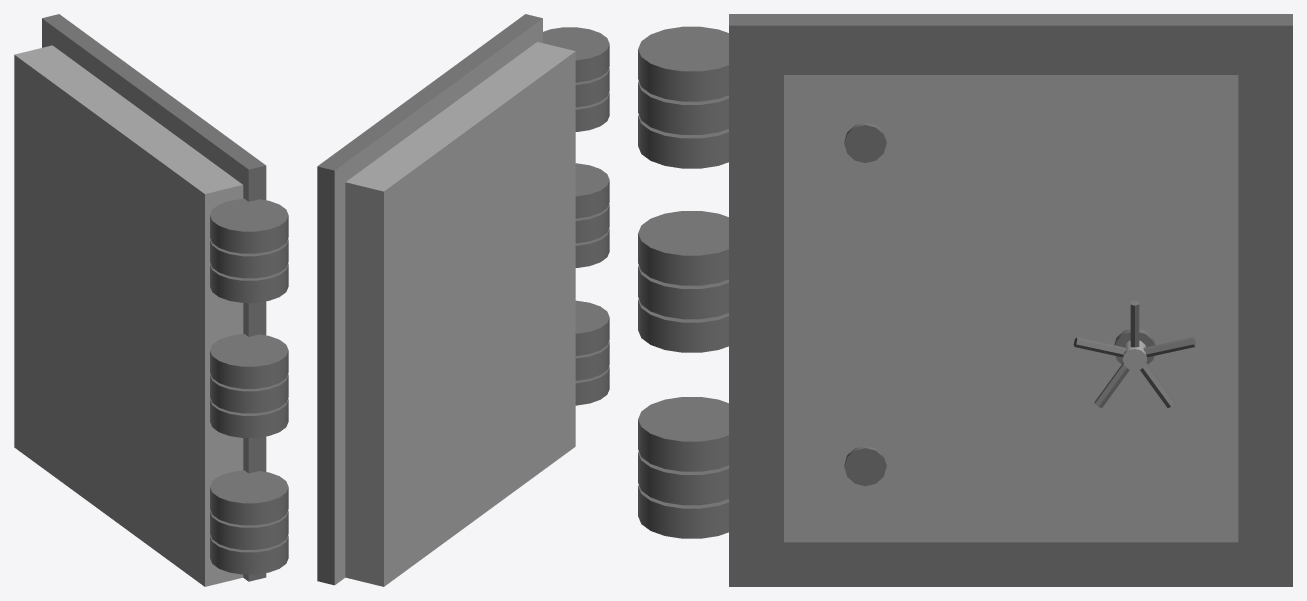
File: SM_doorBankSafe_01.glb
3 views of the same model, side by side, from view 1: azimuth 30°, elevation 25°; view 2: azimuth 150°, elevation 25°; view 3: azimuth 270°, elevation 25° (orthographic). The views are drawn at different scales.
Parts seen in each view (by area): view 1: SM_doorBankSafe_01; view 2: SM_doorBankSafe_01; view 3: SM_doorBankSafe_01.
Boxes of the visible parts, <box> form: SM_doorBankSafe_01: <box>14,14,288,586</box>; SM_doorBankSafe_01: <box>317,14,609,586</box>; SM_doorBankSafe_01: <box>638,14,1292,586</box>.
Size of the model in its own units: 0.4804 by 2.27 by 2.4.
1 material, 1 textured.
